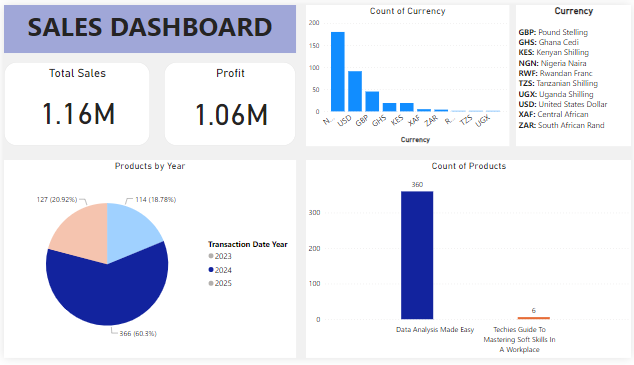

The page's visual inventory and layout, read from the dashboard file:
{"tool":"powerbi","page":{"name":"Page 1","canvas":[1280,720],"ordinal":0},"visuals":[{"type":"textbox","box":[0,0,596.1,98],"z":0},{"type":"textbox","title":"Currency","box":[1044.2,0,236.5,288.5],"z":1000},{"type":"card","title":"Total Sales","fields":{"Values":["Sum(Sales Data csv.Total)"]},"box":[0,117.3,298.1,171.2],"z":2000},{"type":"card","title":"Profit","fields":{"Values":["Sum(Sales Data csv.Your Profit)"]},"box":[326.9,117.3,269.2,171.2],"z":3000},{"type":"clusteredColumnChart","title":"Count of Products ","fields":{"Category":["Sales Data csv.Products"],"Series":["Sales Data csv.Products"],"Y":["CountNonNull(Sales Data csv.Products)"]},"box":[615.4,315.4,665.4,403.8],"z":4000},{"type":"pieChart","title":"Products by Year","fields":{"Category":["Sales Data csv.Transaction Date.Variation.Date Hierarchy.Year"],"Y":["CountNonNull(Sales Data csv.Products)"]},"box":[0,315.4,596.2,403.8],"z":5000},{"type":"clusteredColumnChart","title":"Count of Currency","fields":{"Category":["Sales Data csv.Currency"],"Y":["CountNonNull(Sales Data csv.Currency)"]},"box":[615.4,0,415.4,288.5],"z":6000}]}

Visuals, with their boxes in screenshot pixels (x1, y1, x2, y2), scaled from the page's 1280x720 canvas onto the 634x365 screenshot:
textbox: (0, 0, 295, 50)
"Currency" textbox: (517, 0, 633, 146)
"Total Sales" card: (0, 59, 148, 146)
"Profit" card: (162, 59, 295, 146)
"Count of Products " clusteredColumnChart: (305, 160, 633, 364)
"Products by Year" pieChart: (0, 160, 295, 364)
"Count of Currency" clusteredColumnChart: (305, 0, 511, 146)
